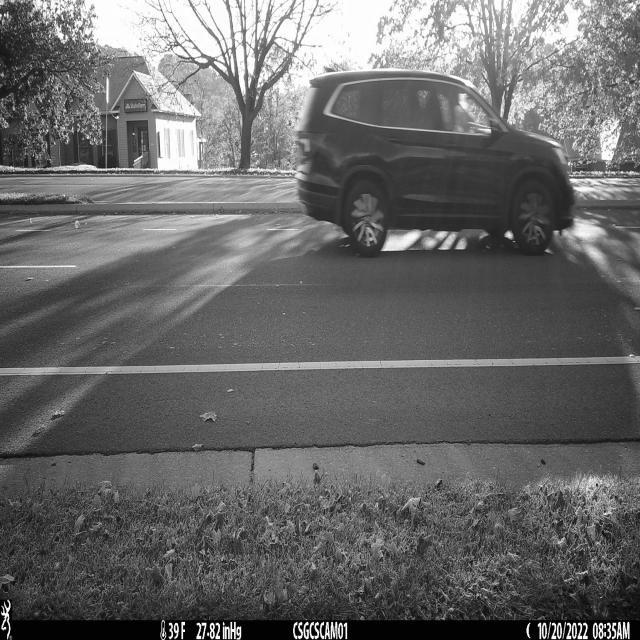SUV: (296, 69, 577, 255)
